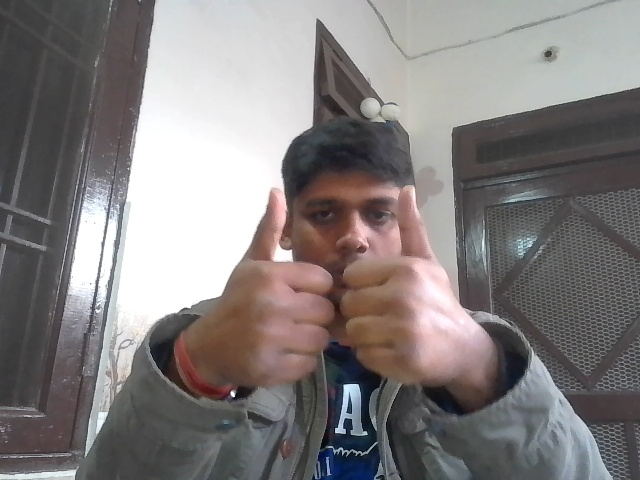Excellent: (205, 184, 460, 397)
